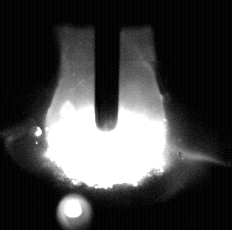arame: (95, 0, 119, 131)
poca: (44, 0, 169, 230)
